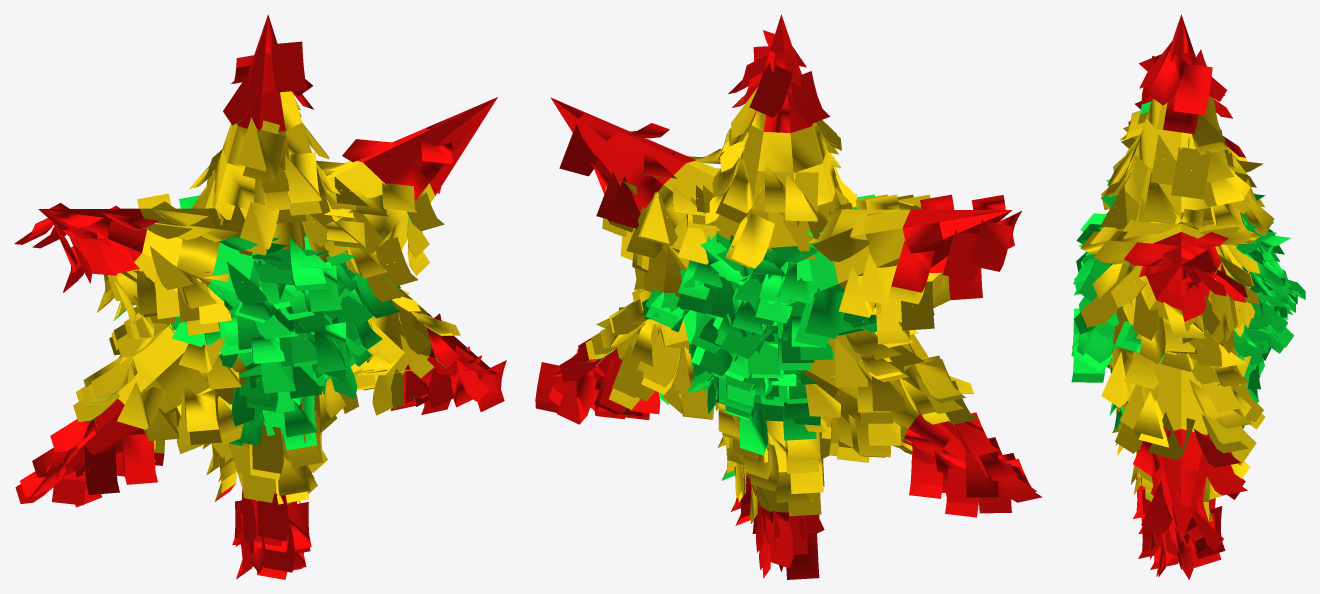
Rendered from StarPinataOnly.fbx.
The picture shows the model from 3 angles, left to right: view 1: azimuth 30°, elevation 25°; view 2: azimuth 150°, elevation 25°; view 3: azimuth 270°, elevation 25°; orthographic projection.
Parts seen in each view (by area): view 1: Pinata_2; view 2: Pinata_2; view 3: Pinata_2.
Part boxes in pixels (left/top/right/bottom): Pinata_2: left=14, top=14, right=506, bottom=579; Pinata_2: left=535, top=14, right=1042, bottom=579; Pinata_2: left=1071, top=14, right=1305, bottom=579.
Bounding box in the file's own units: 372 × 400 × 153.
